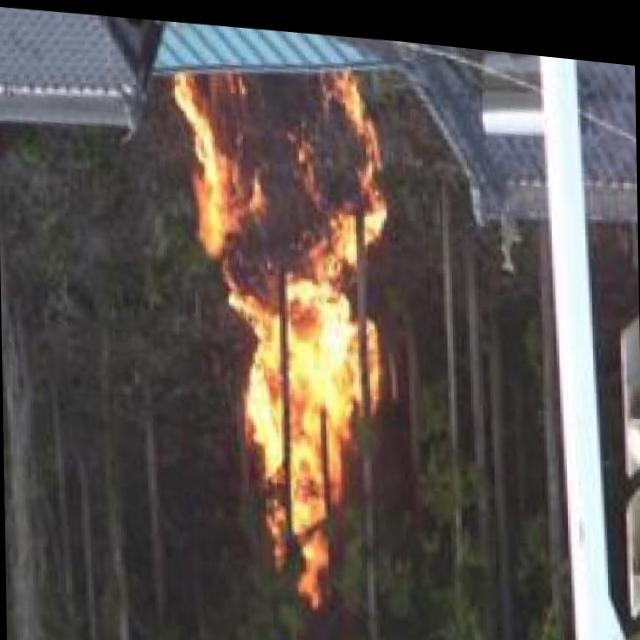Fire: (173, 56, 384, 595)
